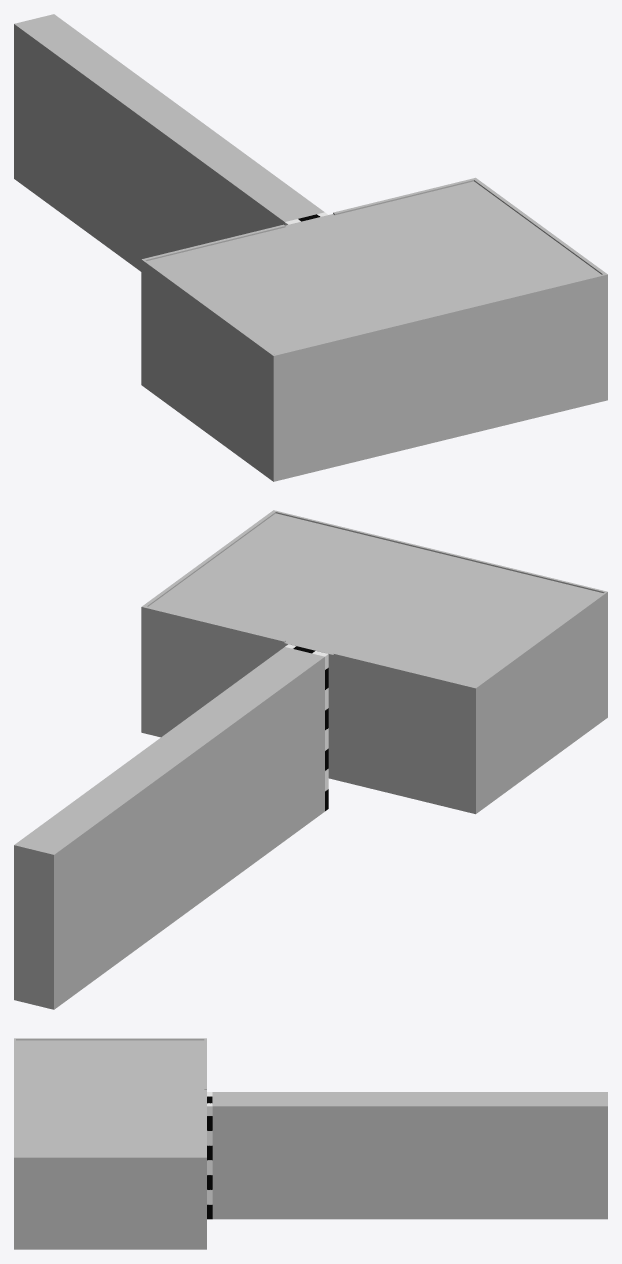
File: zone_2.fbx
The picture shows the model from 3 angles, top to bottom: view 1: azimuth 30°, elevation 25°; view 2: azimuth 150°, elevation 25°; view 3: azimuth 270°, elevation 25°; orthographic projection. The views are drawn at different scales.
Visible parts, largest first — view 1: bowling_zone, road; view 2: bowling_zone, road, goal; view 3: road, bowling_zone, goal.
Boxes of the visible parts, <box> form: bowling_zone: <box>141,177,607,481</box>; road: <box>14,14,324,271</box>; bowling_zone: <box>141,510,607,814</box>; road: <box>14,647,324,1009</box>; goal: <box>285,644,328,811</box>; road: <box>212,1092,607,1219</box>; bowling_zone: <box>14,1038,206,1249</box>; goal: <box>207,1092,212,1219</box>.
Bounding box in the file's own units: 1865 × 833 × 3929.
